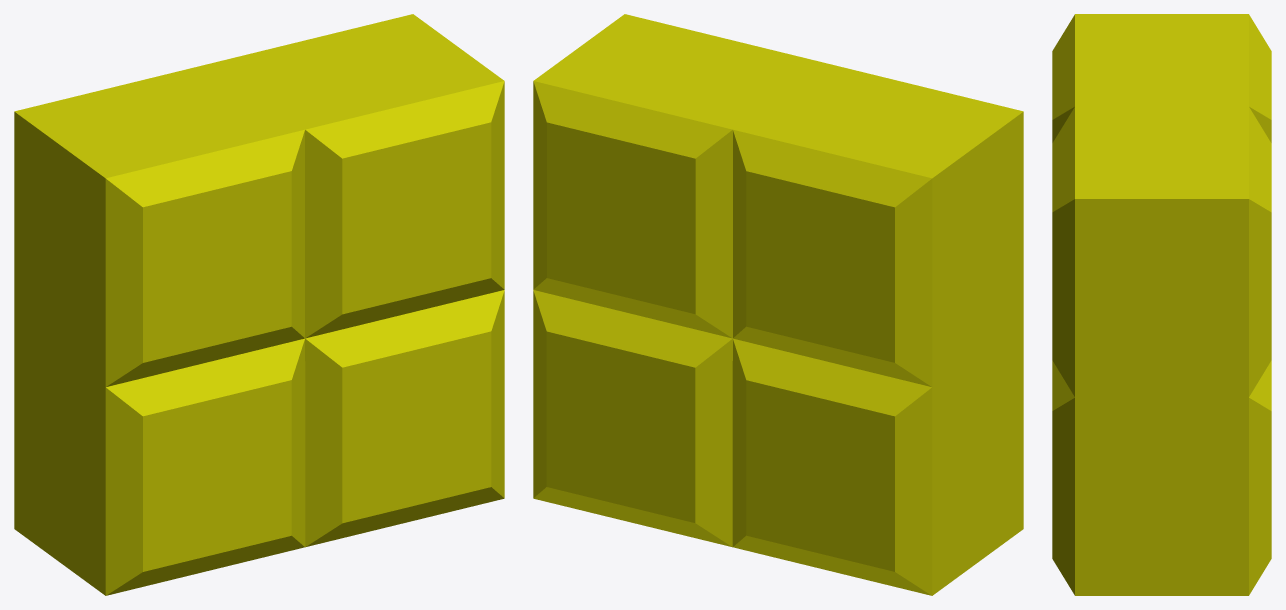
Rendered from OMino.fbx.
3 views of the same model, side by side, from view 1: azimuth 30°, elevation 25°; view 2: azimuth 150°, elevation 25°; view 3: azimuth 270°, elevation 25° (orthographic). The views are drawn at different scales.
Parts seen in each view (by area): view 1: Cube.003; view 2: Cube.003; view 3: Cube.003.
Boxes of the visible parts, x1=… form: Cube.003: x1=14, y1=14, x2=504, y2=595; Cube.003: x1=533, y1=14, x2=1023, y2=595; Cube.003: x1=1052, y1=14, x2=1271, y2=595.
Size of the model in its own units: 200 by 200 by 100.
